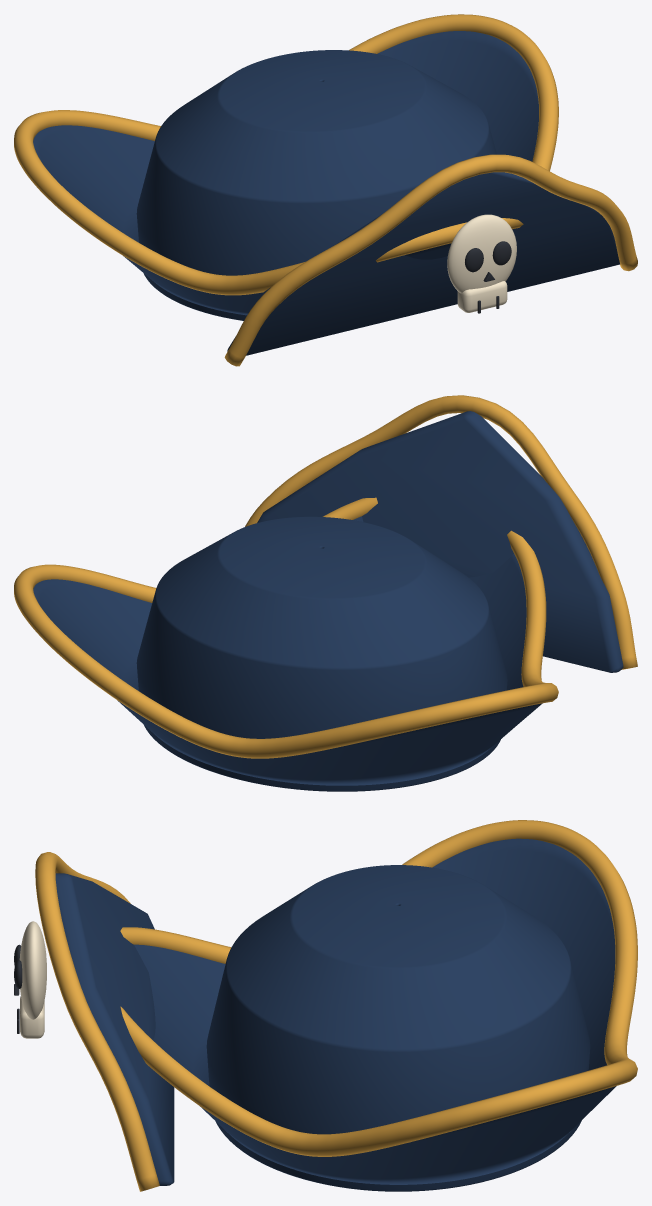
File: PirateHat.glb
3 renders of one model, top to bottom at view 1: azimuth 30°, elevation 25°; view 2: azimuth 150°, elevation 25°; view 3: azimuth 270°, elevation 25°, orthographic. The views are drawn at different scales.
Parts seen in each view (by area): view 1: Hollow navy cap, High front fold, Tricorn swept brim, Gold rolled tricorn edge, Front fold gold edge, Ivory skull, Skull jaw; view 2: Hollow navy cap, High front fold, Tricorn swept brim, Gold rolled tricorn edge, Front fold gold edge; view 3: Hollow navy cap, Tricorn swept brim, Gold rolled tricorn edge, High front fold, Front fold gold edge, Ivory skull, Skull jaw.
Part boxes in pixels (x1,y1,x2,y2): Hollow navy cap: (136, 50, 496, 320); High front fold: (227, 172, 619, 355); Tricorn swept brim: (33, 31, 538, 315); Gold rolled tricorn edge: (14, 14, 558, 295); Front fold gold edge: (224, 154, 637, 366); Ivory skull: (447, 214, 516, 293); Skull jaw: (457, 281, 507, 312); Hollow navy cap: (136, 516, 507, 791); High front fold: (257, 411, 623, 672); Tricorn swept brim: (33, 516, 542, 785); Gold rolled tricorn edge: (14, 497, 558, 758); Front fold gold edge: (245, 395, 637, 669); Hollow navy cap: (206, 865, 590, 1191); Tricorn swept brim: (134, 838, 616, 1184); Gold rolled tricorn edge: (120, 820, 637, 1156); High front fold: (55, 873, 174, 1185); Front fold gold edge: (35, 852, 159, 1191); Ivory skull: (19, 921, 46, 1019); Skull jaw: (20, 996, 44, 1038).
Bounding box in the file's own units: 0.7707 × 0.302 × 0.7156.
